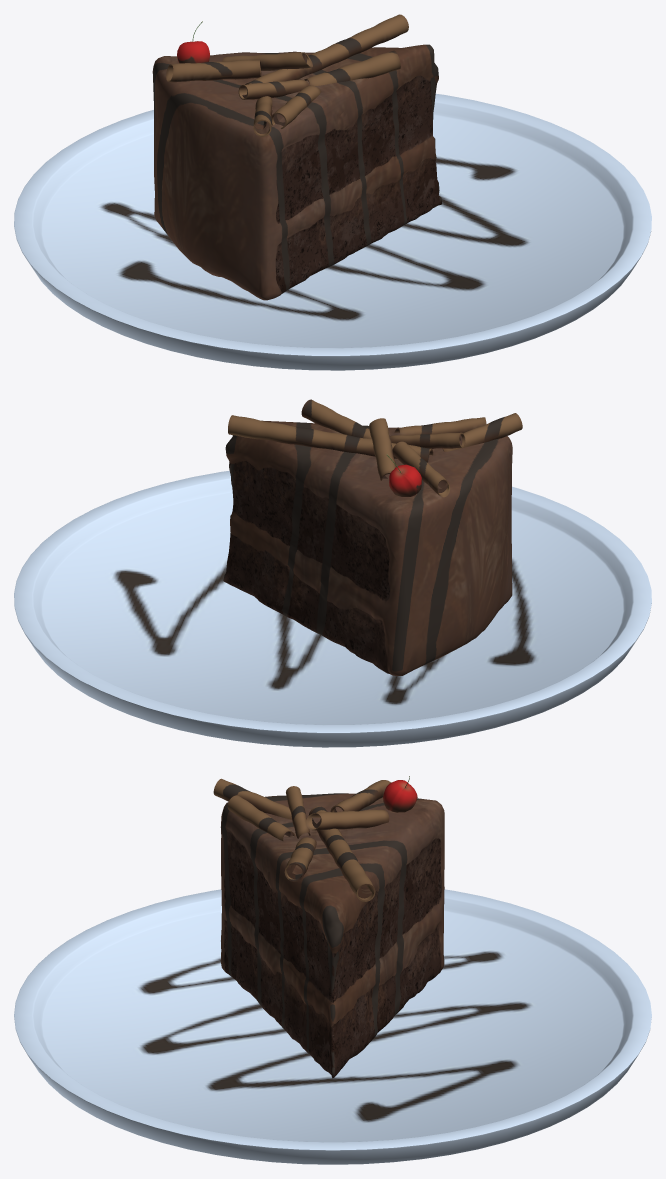
Rendered from dessert.glb.
3 renders of one model, top to bottom at view 1: azimuth 30°, elevation 25°; view 2: azimuth 150°, elevation 25°; view 3: azimuth 270°, elevation 25°, orthographic.
Parts seen in each view (by area): view 1: Plate, Dessert_low, poura, Sphere; view 2: Plate, Dessert_low, poura, Sphere; view 3: Plate, Dessert_low, poura, Sphere.
Part boxes in pixels (x1,y1,x2,y2): Plate: (14, 93, 651, 370); Dessert_low: (152, 44, 441, 300); poura: (166, 14, 408, 136); Sphere: (177, 21, 209, 63); Plate: (14, 470, 651, 747); Dessert_low: (223, 420, 512, 675); poura: (228, 399, 522, 497); Sphere: (386, 454, 421, 496); Plate: (14, 889, 651, 1164); Dessert_low: (220, 793, 444, 1078); poura: (213, 778, 390, 901); Sphere: (383, 776, 417, 812).
Size of the model in its own units: 47.49 by 17.58 by 47.49.
Materials: 1 (1 with a texture image).
